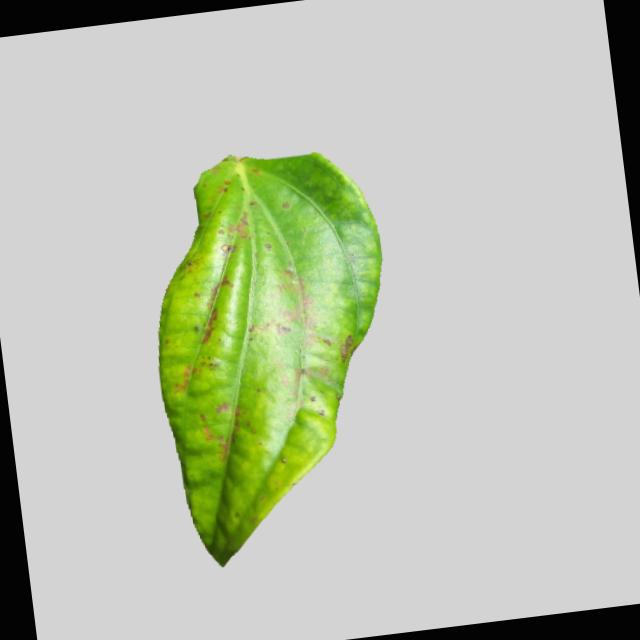yellow-mottle-virus: (122, 140, 426, 574)
